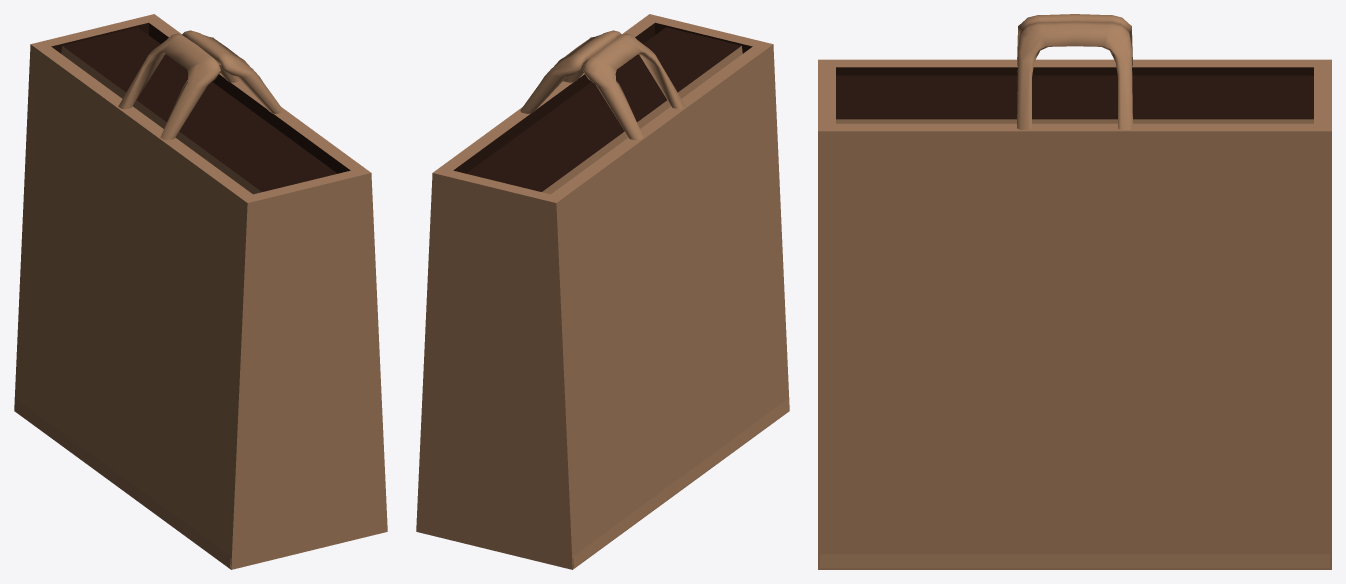
File: Shopping Bag.fbx
3 renders of one model, left to right at view 1: azimuth 30°, elevation 25°; view 2: azimuth 150°, elevation 25°; view 3: azimuth 270°, elevation 25°, orthographic. The views are drawn at different scales.
Parts seen in each view (by area): view 1: Bag, Shopping Bag, Handle; view 2: Bag, Shopping Bag, Handle; view 3: Bag, Shopping Bag, Handle.
Boxes of the visible parts, <box> form: Bag: <box>14,14,387,569</box>; Shopping Bag: <box>14,27,337,567</box>; Handle: <box>118,30,283,140</box>; Bag: <box>416,14,789,569</box>; Shopping Bag: <box>466,27,789,567</box>; Handle: <box>520,30,685,140</box>; Bag: <box>818,59,1331,569</box>; Shopping Bag: <box>820,75,1329,567</box>; Handle: <box>1017,14,1132,129</box>.
Size of the model in its own units: 12.79 by 33.09 by 30.49.
